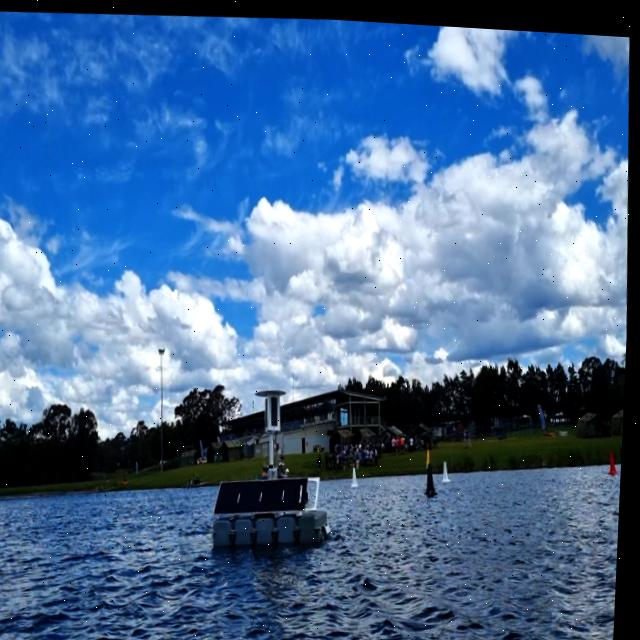led: (272, 390, 283, 425), (267, 394, 273, 425)
